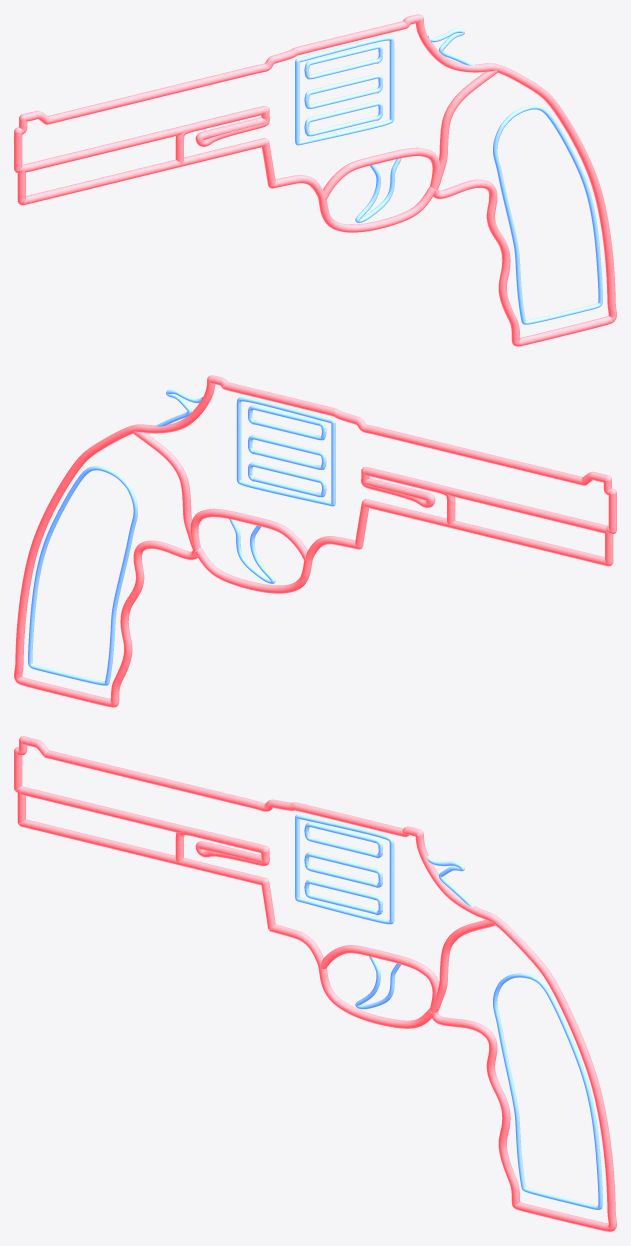
File: revolver_gun_pistol_neon..glb
The picture shows the model from 3 angles, top to bottom: view 1: azimuth 30°, elevation 25°; view 2: azimuth 150°, elevation 25°; view 3: azimuth 330°, elevation 25°; orthographic projection.
Parts seen in each view (by area): view 1: NurbsPath_0, NurbsPath.005_1; view 2: NurbsPath_0, NurbsPath.005_1; view 3: NurbsPath_0, NurbsPath.005_1.
Part boxes in pixels (bbox=[...]): NurbsPath_0: bbox=[14, 14, 616, 346]; NurbsPath.005_1: bbox=[295, 28, 602, 324]; NurbsPath_0: bbox=[14, 375, 616, 707]; NurbsPath.005_1: bbox=[28, 389, 335, 685]; NurbsPath_0: bbox=[14, 736, 616, 1231]; NurbsPath.005_1: bbox=[295, 814, 602, 1209].
Size of the model in its own units: 4.99 by 2.82 by 0.06.
